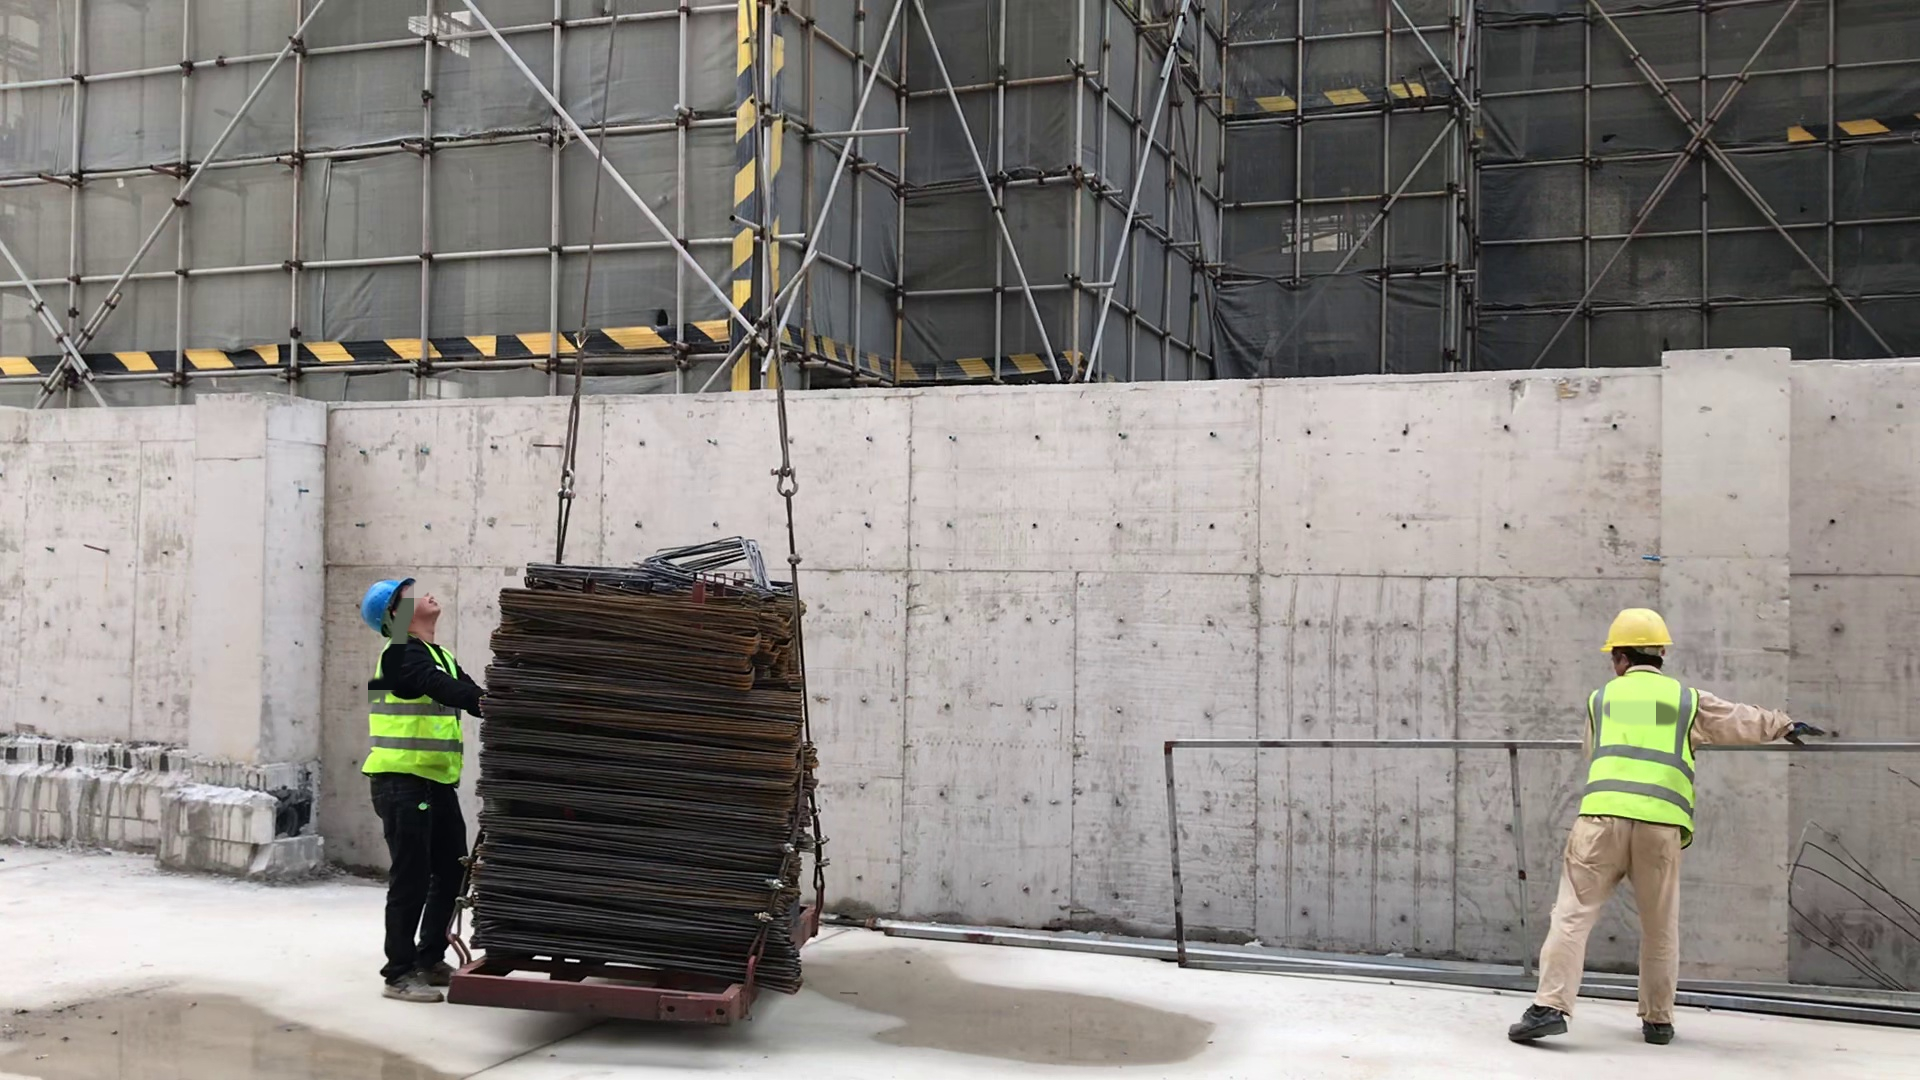helmet: (1581, 591, 1686, 664), (353, 571, 411, 629)
person: (1497, 587, 1705, 1050), (339, 568, 475, 1019)
vest: (1579, 675, 1695, 839), (365, 645, 467, 787)
